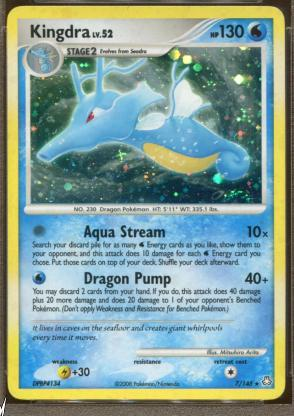Card: (5, 3, 285, 402)
